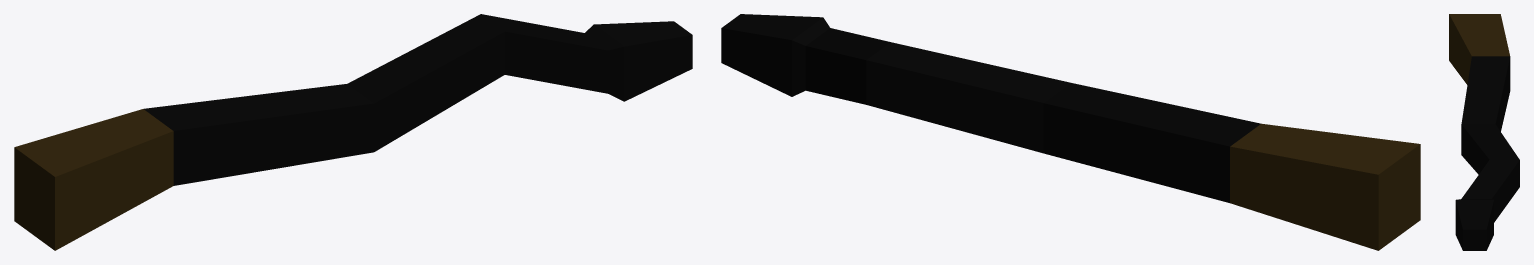
File: match02.gltf
The picture shows the model from 3 angles, left to right: view 1: azimuth 30°, elevation 25°; view 2: azimuth 150°, elevation 25°; view 3: azimuth 270°, elevation 25°; orthographic projection. The views are drawn at different scales.
Visible parts, largest first — view 1: Cube; view 2: Cube; view 3: Cube.
Part boxes in pixels (x1,y1,x2,y2): Cube: (14, 14, 692, 250); Cube: (721, 14, 1420, 250); Cube: (1449, 14, 1519, 250).
Bounding box in the file's own units: 0.0524 × 0.00606 × 0.00782.
1 material, 1 textured.
